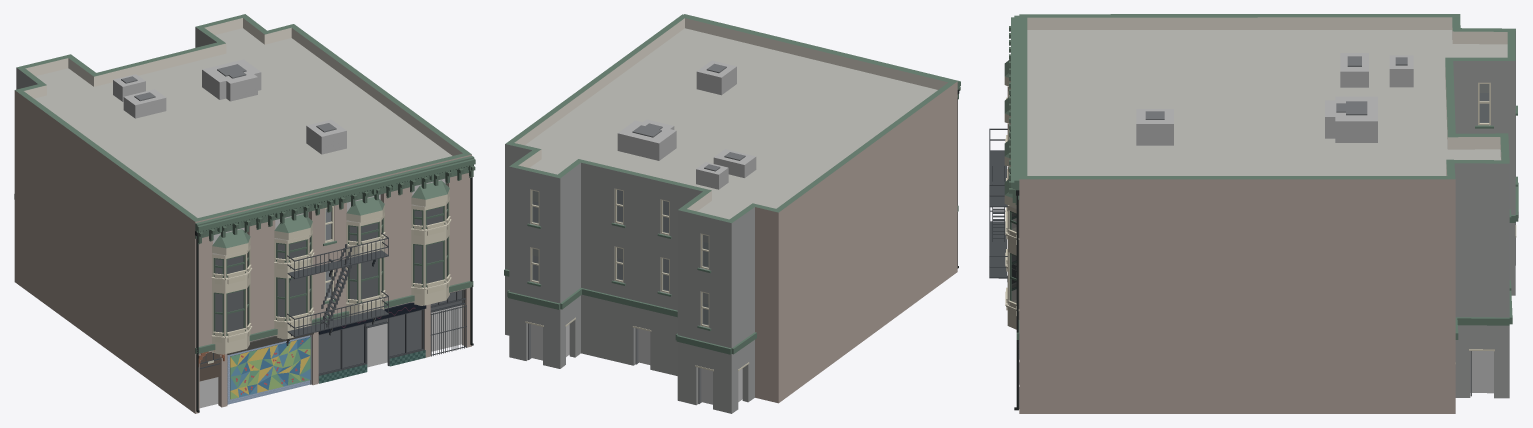
The model's file is exterior.glb.
3 views of the same model, side by side, from view 1: azimuth 30°, elevation 25°; view 2: azimuth 150°, elevation 25°; view 3: azimuth 270°, elevation 25° (orthographic). The views are drawn at different scales.
Parts seen in each view (by area): view 1: shell, roof, shadow-proxy, bay-windows, bay-glazing, rooftop-units, trim, front-dressing-r14, bay-windows-crown, glazing, fire-escape, storefront (+3 smaller); view 2: shell, roof, rooftop-units, trim, shadow-proxy, glazing, frames, storefront; view 3: shell, roof, rooftop-units, trim, fire-escape, bay-windows, shadow-proxy, bay-windows-crown, front-dressing-r13, bay-glazing.
Part boxes in pixels (x1=…): shell: x1=14, y1=14, x2=471, y2=413; roof: x1=34, y1=28, x2=452, y2=217; shadow-proxy: x1=199, y1=178, x2=461, y2=408; bay-windows: x1=211, y1=188, x2=451, y2=354; bay-glazing: x1=213, y1=202, x2=448, y2=335; rooftop-units: x1=113, y1=59, x2=346, y2=154; trim: x1=14, y1=156, x2=475, y2=354; front-dressing-r14: x1=230, y1=307, x2=425, y2=399; bay-windows-crown: x1=212, y1=180, x2=450, y2=354; glazing: x1=318, y1=208, x2=465, y2=373; fire-escape: x1=286, y1=232, x2=388, y2=345; storefront: x1=199, y1=289, x2=466, y2=404; shell: x1=505, y1=14, x2=957, y2=413; roof: x1=525, y1=28, x2=937, y2=219; rooftop-units: x1=617, y1=60, x2=756, y2=189; trim: x1=504, y1=14, x2=960, y2=354; shadow-proxy: x1=531, y1=190, x2=742, y2=404; glazing: x1=532, y1=190, x2=708, y2=325; frames: x1=530, y1=188, x2=709, y2=327; storefront: x1=525, y1=317, x2=749, y2=403; shell: x1=1019, y1=14, x2=1515, y2=413; roof: x1=1027, y1=30, x2=1507, y2=175; rooftop-units: x1=1136, y1=53, x2=1413, y2=145; trim: x1=1011, y1=15, x2=1518, y2=339; fire-escape: x1=989, y1=128, x2=1007, y2=281; bay-windows: x1=1004, y1=76, x2=1019, y2=329; shadow-proxy: x1=1470, y1=93, x2=1493, y2=393; bay-windows-crown: x1=1004, y1=59, x2=1016, y2=315; front-dressing-r13: x1=1014, y1=190, x2=1019, y2=410; bay-glazing: x1=1009, y1=95, x2=1016, y2=302.
Size of the model in its own units: 16.53 by 11.42 by 22.35.
